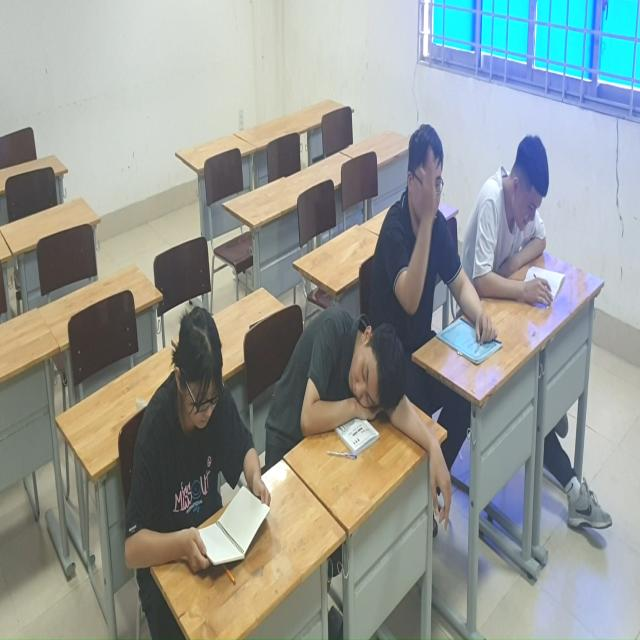raise_hand: (380, 125, 461, 348)
read: (124, 305, 273, 592), (470, 129, 572, 315)
sleep: (266, 299, 455, 532)
